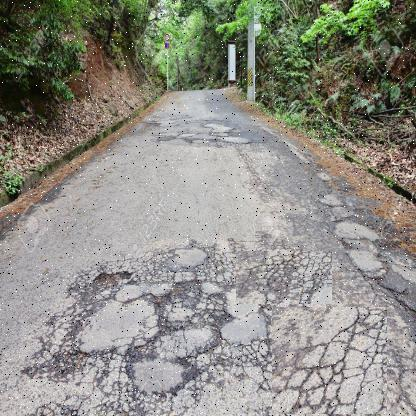crack: (272, 307, 388, 415), (236, 252, 333, 306)
damage: (50, 244, 282, 403)
